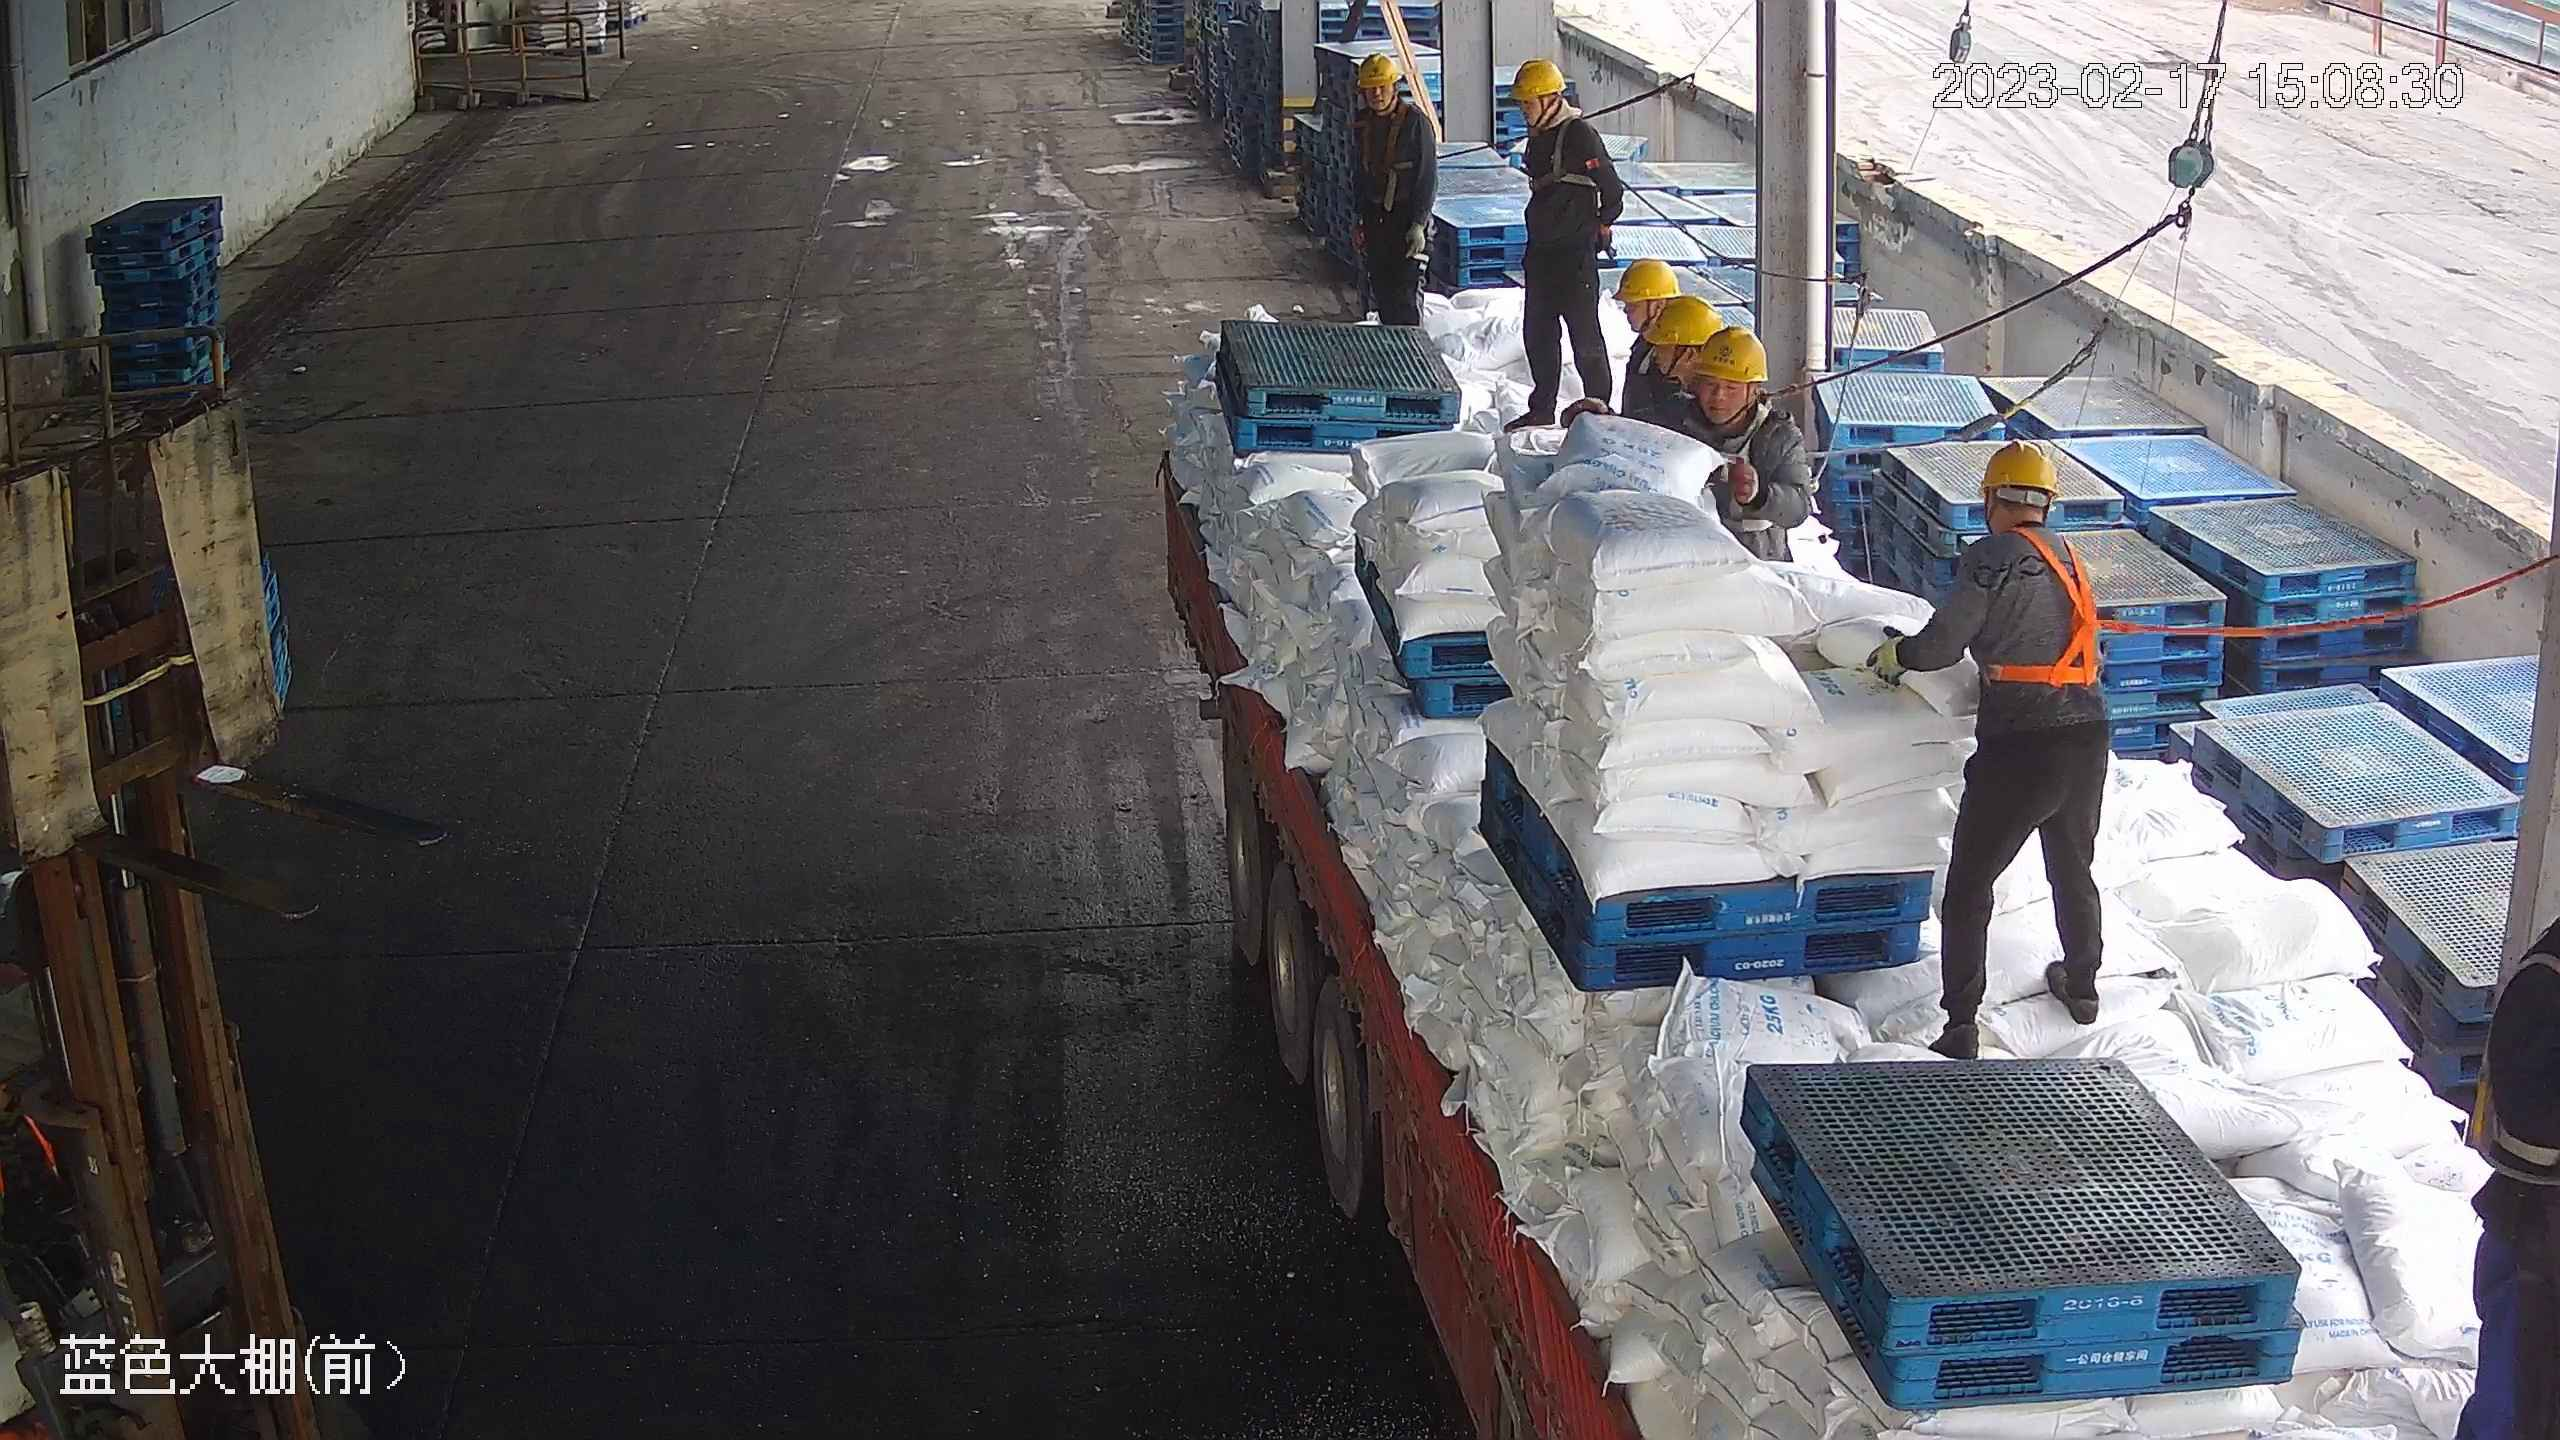belt: (1976, 526, 2123, 693), (2480, 942, 2560, 1208), (1689, 406, 1790, 535), (1507, 120, 1602, 197), (1358, 109, 1433, 199)
head: (1939, 442, 2101, 617), (1669, 325, 1802, 486), (1499, 59, 1611, 179), (1353, 53, 1434, 154)
helmet: (1977, 441, 2062, 501), (1697, 326, 1769, 384), (1645, 296, 1725, 349), (1613, 259, 1678, 303), (1509, 60, 1566, 104), (1356, 53, 1402, 89)
people: (1864, 439, 2112, 1068), (1500, 56, 1626, 430), (1351, 52, 1440, 327)
truck: (1152, 389, 2560, 1440)
